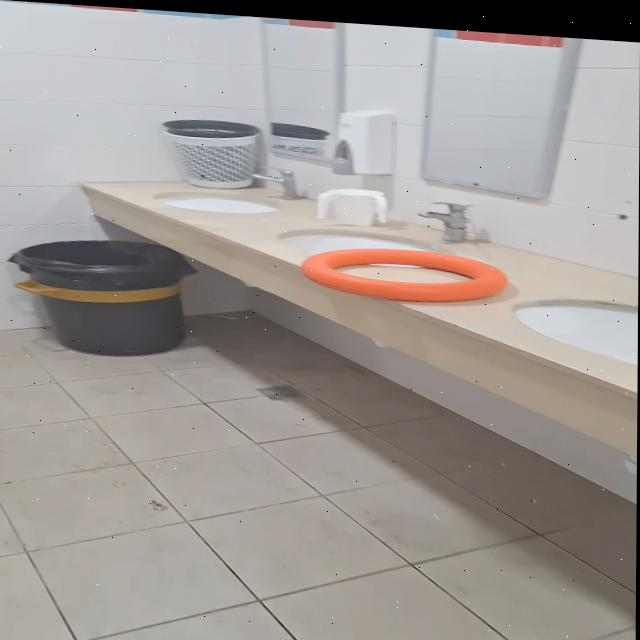note: (299, 237, 511, 302)
